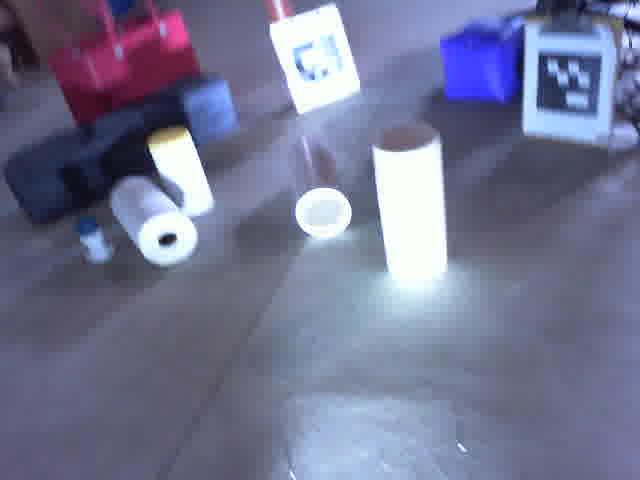coral: (366, 120, 453, 281), (284, 134, 355, 238)
